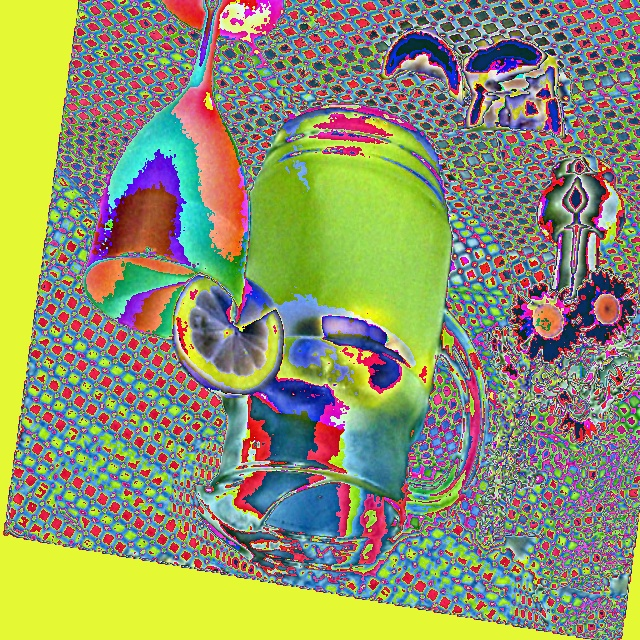background: (172, 110, 453, 432), (187, 27, 566, 135)
